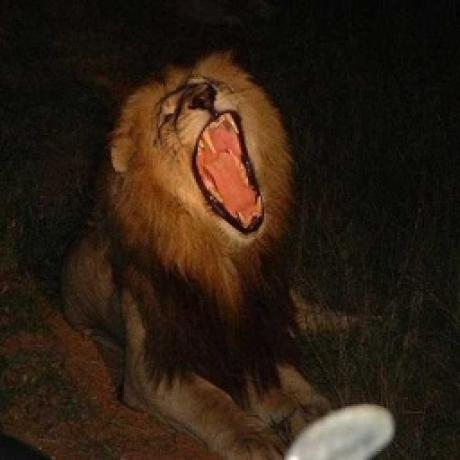Lion: (59, 52, 342, 460)
